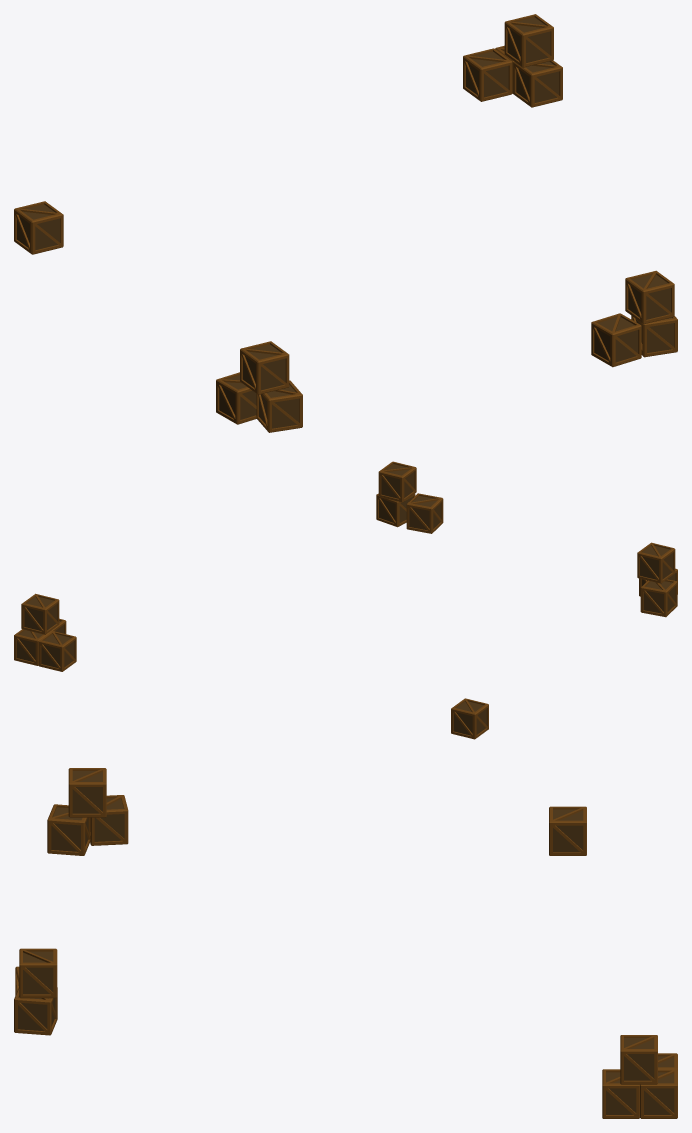
The model's file is crates.fbx.
3 renders of one model, top to bottom at view 1: azimuth 30°, elevation 25°; view 2: azimuth 150°, elevation 25°; view 3: azimuth 270°, elevation 25°, orthographic. The views are drawn at different scales.
Visible parts, largest first — view 1: crate.002, crate.010, crate.001, crate.004, crate.006, crate.009, crate.007, crate.003, crate.005, crate; view 2: crate.001, crate.009, crate.004, crate.010, crate.002, crate.006, crate.005, crate.008, crate; view 3: crate.001, crate.004, crate.006, crate.010, crate.003, crate.008, crate.007, crate, crate.005.
Part boxes in pixels (x1=…): crate.002: x1=591, y1=313, x2=641, y2=367; crate.010: x1=504, y1=14, x2=553, y2=67; crate.001: x1=625, y1=270, x2=674, y2=324; crate.004: x1=240, y1=341, x2=289, y2=394; crate.006: x1=14, y1=201, x2=63, y2=254; crate.009: x1=463, y1=48, x2=512, y2=101; crate.007: x1=513, y1=60, x2=562, y2=107; crate.003: x1=256, y1=380, x2=302, y2=432; crate.005: x1=216, y1=372, x2=256, y2=424; crate: x1=631, y1=315, x2=677, y2=357; crate.001: x1=378, y1=461, x2=416, y2=502; crate.009: x1=38, y1=631, x2=76, y2=671; crate.004: x1=637, y1=542, x2=675, y2=583; crate.010: x1=21, y1=593, x2=59, y2=634; crate.002: x1=406, y1=493, x2=443, y2=533; crate.006: x1=451, y1=698, x2=488, y2=739; crate.005: x1=640, y1=579, x2=677, y2=617; crate.008: x1=14, y1=629, x2=51, y2=665; crate: x1=376, y1=493, x2=415, y2=527; crate.001: x1=19, y1=948, x2=57, y2=998; crate.004: x1=68, y1=768, x2=106, y2=817; crate.006: x1=549, y1=806, x2=586, y2=855; crate.010: x1=620, y1=1035, x2=657, y2=1084; crate.003: x1=47, y1=804, x2=90, y2=855; crate.008: x1=640, y1=1069, x2=677, y2=1118; crate.007: x1=602, y1=1069, x2=639, y2=1118; crate: x1=14, y1=987, x2=57, y2=1035; crate.005: x1=90, y1=795, x2=128, y2=845.
Bounding box in the file's own units: 907 × 100 × 876.
